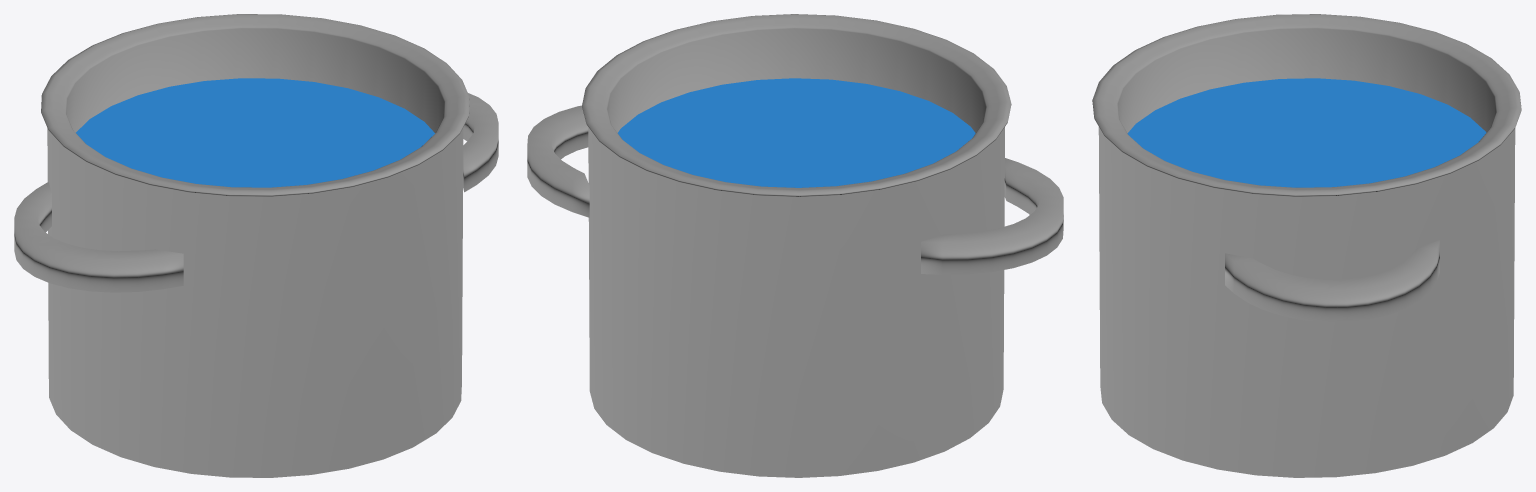
Rendered from PotWater.glb.
3 views of the same model, side by side, from view 1: azimuth 30°, elevation 25°; view 2: azimuth 150°, elevation 25°; view 3: azimuth 270°, elevation 25° (orthographic).
Parts seen in each view (by area): view 1: Cylinder.016; view 2: Cylinder.016; view 3: Cylinder.016.
Part boxes in pixels (box(x1,y1,x2,y2)): Cylinder.016: box(14, 14, 498, 477); Cylinder.016: box(527, 14, 1063, 477); Cylinder.016: box(1092, 14, 1521, 477).
Size of the model in its own units: 0.4727 by 0.2684 by 0.3626.
